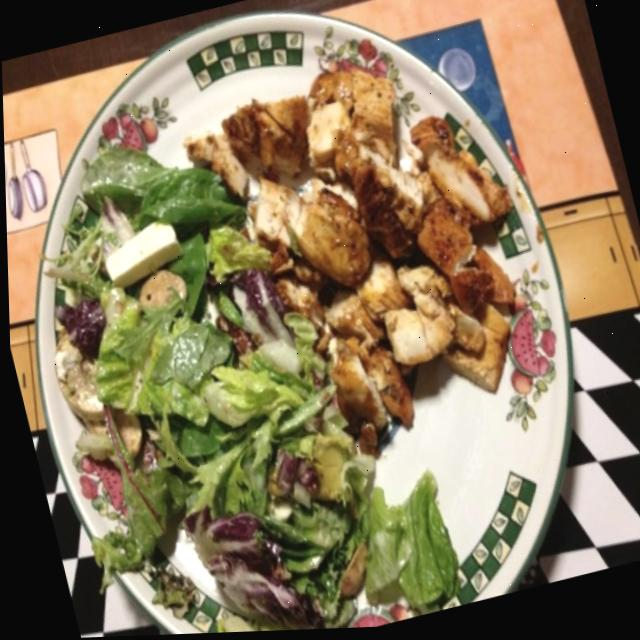鸡肉料理 含炸鸡: (0, 0, 633, 640)
